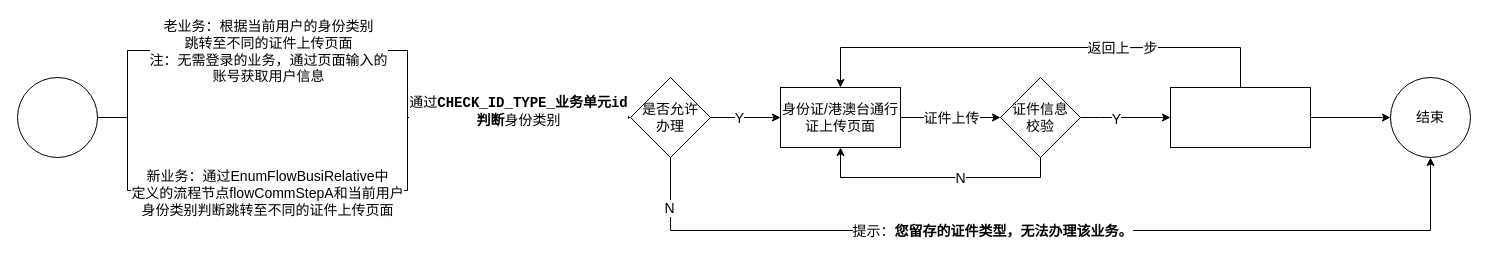
The diagram is 1488 pixels wide and 257 high, and some of its shapes have lost their labels. Here are the shapes that lost their labels. From the top down, the centre of each, then its label:
At point (57, 117): "开始".
At point (1240, 117): "视频验证/其他页面".
